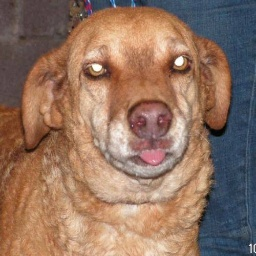dog: (4, 6, 229, 256)
